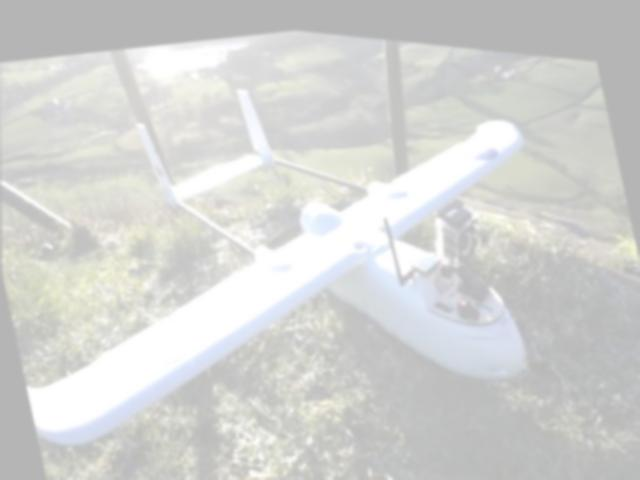uav: (0, 5, 581, 480)
